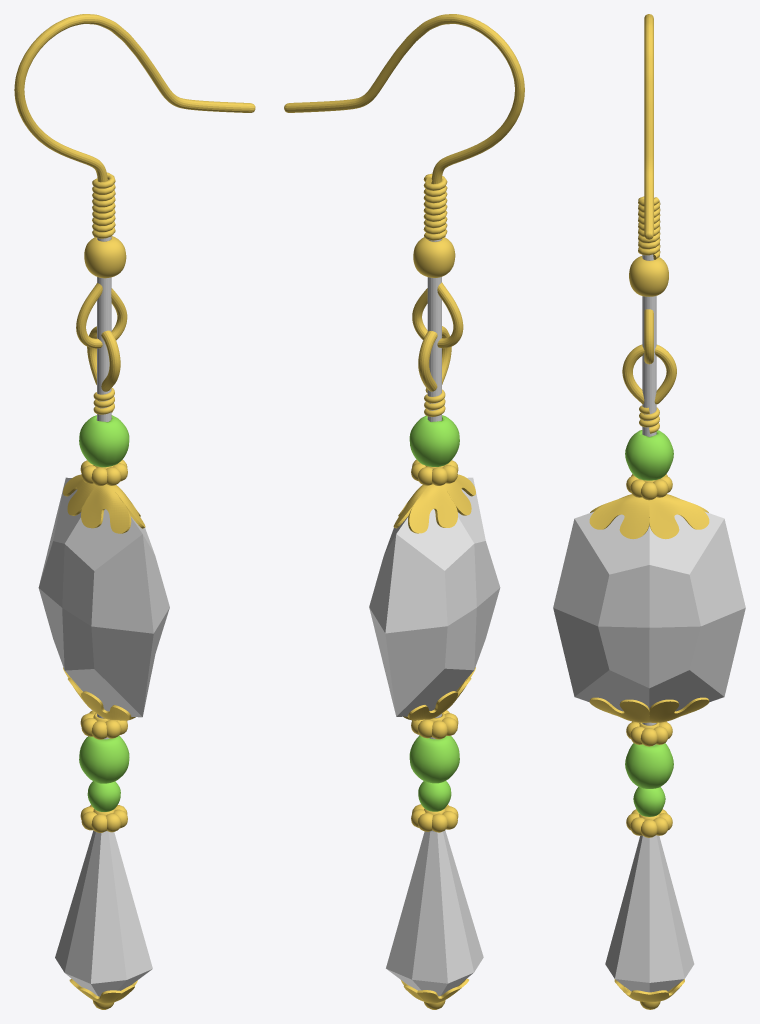
Rendered from earring test.fbx.
3 renders of one model, left to right at view 1: azimuth 30°, elevation 25°; view 2: azimuth 150°, elevation 25°; view 3: azimuth 270°, elevation 25°, orthographic. The views are drawn at different scales.
Visible parts, largest first — view 1: Cube.102, Cube.096, Plane.015, Cube.104, Cube.103, Cylinder.020, Cube.105, Spiral.003, Plane.014, Cube.098, Cube.090, Cube.092; view 2: Cube.102, Cube.096, Plane.015, Cube.104, Cube.103, Cylinder.020, Cube.105, Spiral.003, Plane.014, Cube.098, Cube.090, Cube.092; view 3: Cube.102, Cube.096, Cube.103, Cube.104, Plane.015, Cylinder.020, Plane.014, Cube.105, Spiral.003, Cube.098, Cube.090, Cube.092 (+2 smaller).
Part boxes in pixels (box(x1,y1,x2,y2)): Cube.102: box(38, 477, 169, 717); Cube.096: box(55, 830, 152, 996); Plane.015: box(14, 14, 255, 348); Cube.104: box(79, 415, 129, 783); Cube.103: box(63, 474, 145, 720); Cylinder.020: box(97, 236, 111, 831); Cube.105: box(84, 236, 126, 278); Spiral.003: box(92, 172, 115, 238); Plane.014: box(87, 326, 120, 391); Cube.098: box(80, 460, 127, 739); Cube.090: box(87, 781, 120, 811); Cube.092: box(69, 979, 137, 1003); Cube.102: box(369, 477, 500, 716); Cube.096: box(386, 830, 483, 996); Plane.015: box(284, 14, 524, 348); Cube.104: box(409, 415, 459, 783); Cube.103: box(393, 474, 475, 720); Cylinder.020: box(427, 239, 441, 831); Cube.105: box(413, 237, 455, 277); Spiral.003: box(423, 173, 447, 240); Plane.014: box(418, 326, 451, 391); Cube.098: box(411, 460, 458, 739); Cube.090: box(418, 781, 451, 811); Cube.092: box(401, 978, 468, 1003); Cube.102: box(553, 511, 745, 711); Cube.096: box(605, 835, 694, 992); Cube.103: box(589, 494, 709, 722); Cube.104: box(625, 430, 673, 788); Plane.015: box(644, 14, 653, 364); Cylinder.020: box(642, 254, 656, 745); Plane.014: box(622, 344, 676, 404); Cube.105: box(629, 256, 668, 296); Spiral.003: box(638, 196, 660, 259); Cube.098: box(630, 474, 668, 744); Cube.090: box(633, 787, 665, 816); Cube.092: box(614, 979, 684, 1001).
Bounding box in the file's own units: 163 × 650 × 116.
